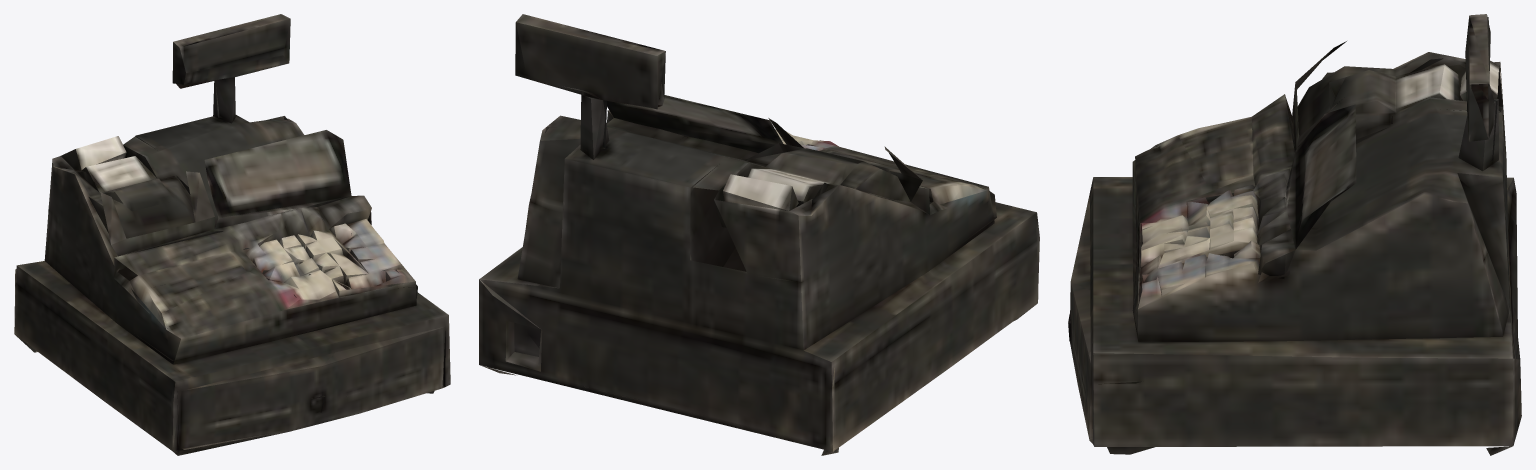
File: p7-cash-register.glb
3 renders of one model, left to right at view 1: azimuth 30°, elevation 25°; view 2: azimuth 150°, elevation 25°; view 3: azimuth 270°, elevation 25°, orthographic. The views are drawn at different scales.
Parts seen in each view (by area): view 1: p7-cash-register; view 2: p7-cash-register; view 3: p7-cash-register.
Part boxes in pixels (bbox=[...]): p7-cash-register: bbox=[14, 14, 450, 455]; p7-cash-register: bbox=[479, 14, 1039, 455]; p7-cash-register: bbox=[1068, 14, 1521, 455].
Size of the model in its own units: 0.42 by 0.4 by 0.45.
1 material, 1 textured.
